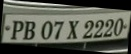character: (65, 20, 80, 39), (10, 20, 24, 40), (22, 20, 36, 40), (40, 20, 52, 40), (82, 20, 94, 39), (53, 20, 64, 40), (92, 19, 103, 38), (102, 18, 113, 37), (113, 17, 123, 36)
